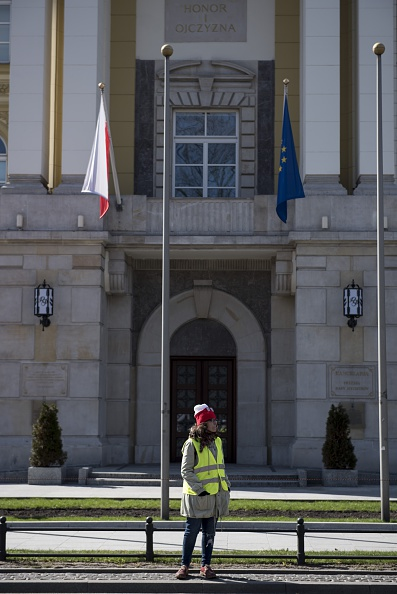em pe: (179, 410, 235, 584)
